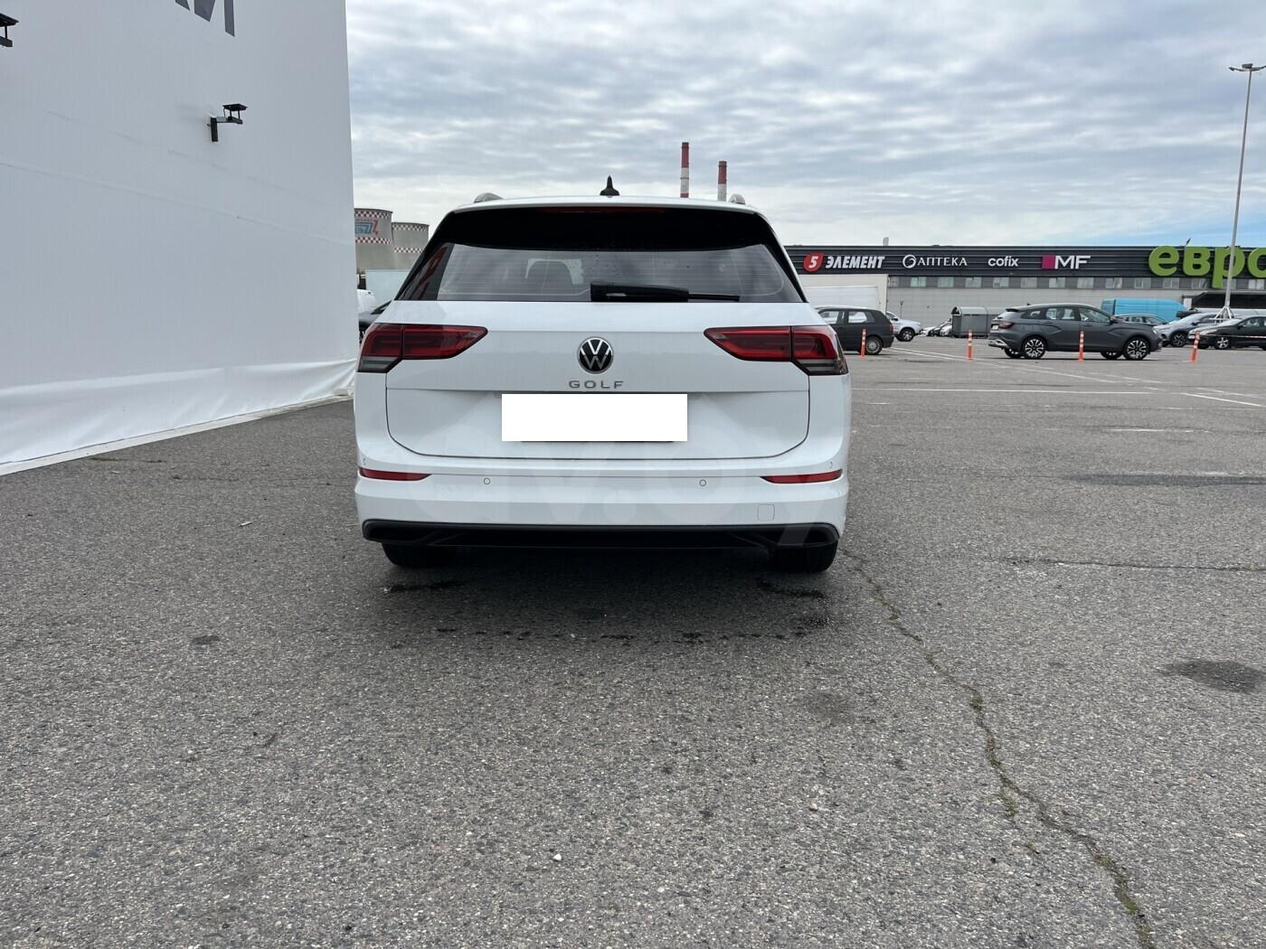Golf_2019: (345, 189, 858, 590)
